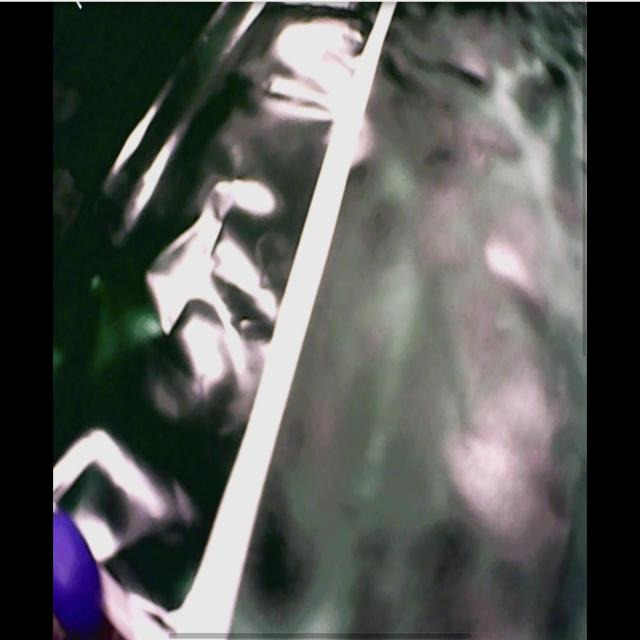ball: (54, 514, 102, 637)
